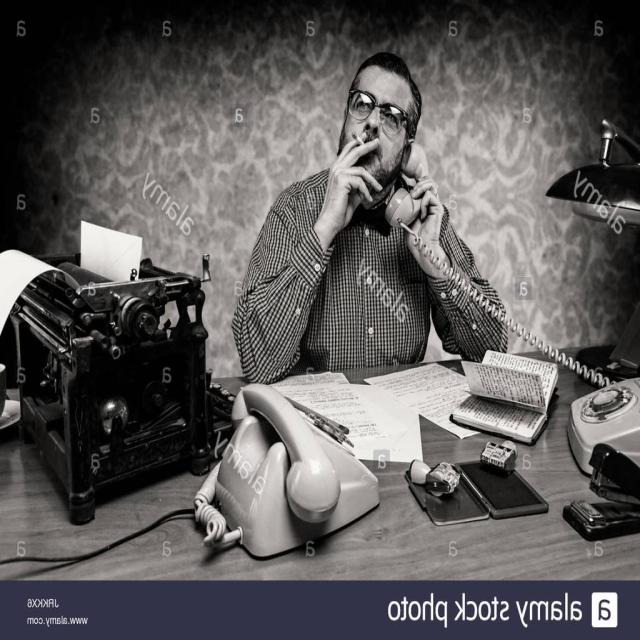smoking: (328, 44, 428, 190)
